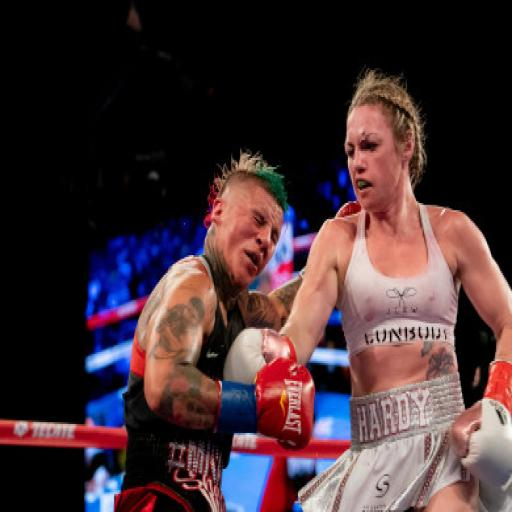boxing: (238, 23, 503, 512), (108, 117, 343, 512)
